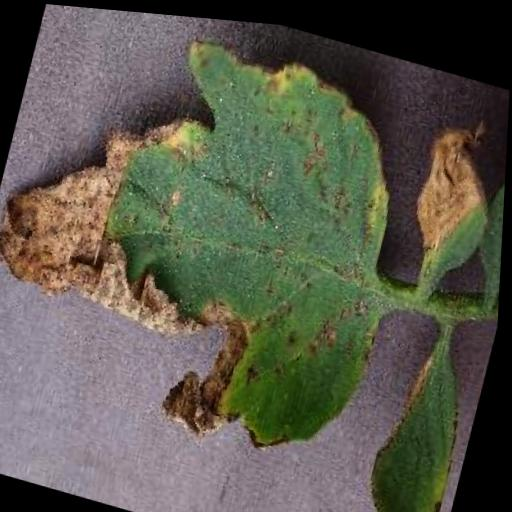Bacterial Spot: (0, 0, 443, 479), (352, 334, 484, 512), (396, 97, 509, 289)
